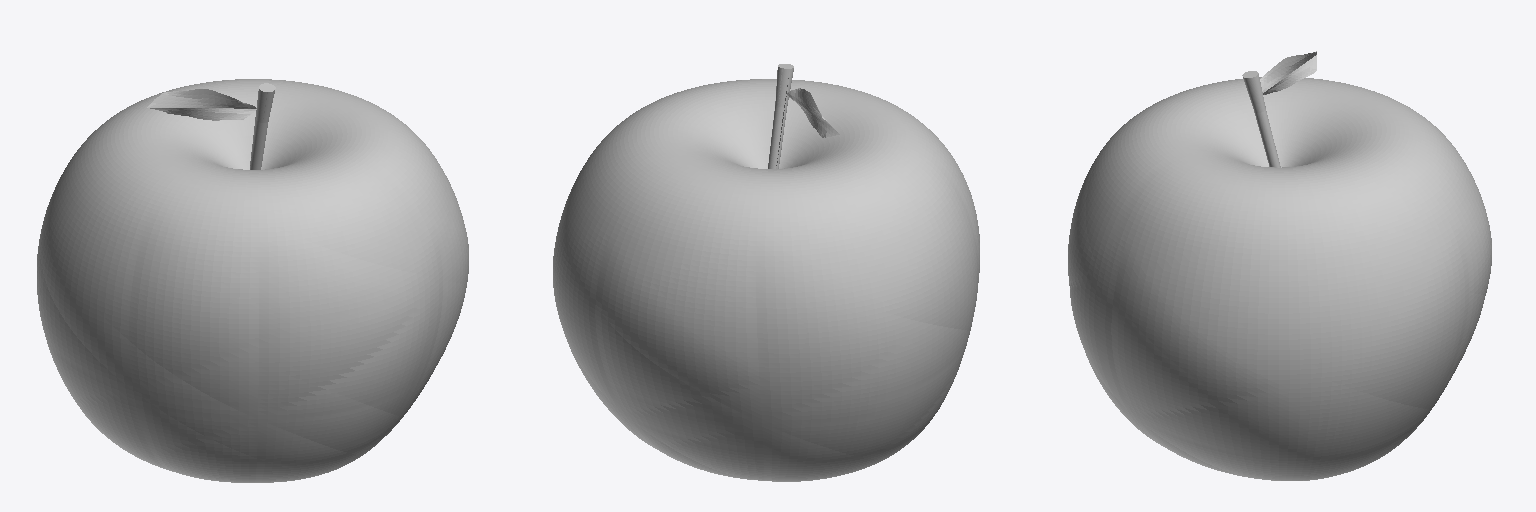
Rendered from apple.obj.
The picture shows the model from 3 angles: view 1: azimuth 30°, elevation 25°; view 2: azimuth 150°, elevation 25°; view 3: azimuth 270°, elevation 25°; orthographic projection.
Visible parts, largest first — view 1: Sphere_Sphere.001; view 2: Sphere_Sphere.001; view 3: Sphere_Sphere.001.
Part boxes in pixels (bbox=[...]): Sphere_Sphere.001: bbox=[37, 79, 468, 482]; Sphere_Sphere.001: bbox=[553, 64, 979, 481]; Sphere_Sphere.001: bbox=[1068, 51, 1491, 480].
Bounding box in the file's own units: 0.3667 × 0.3391 × 0.3604.